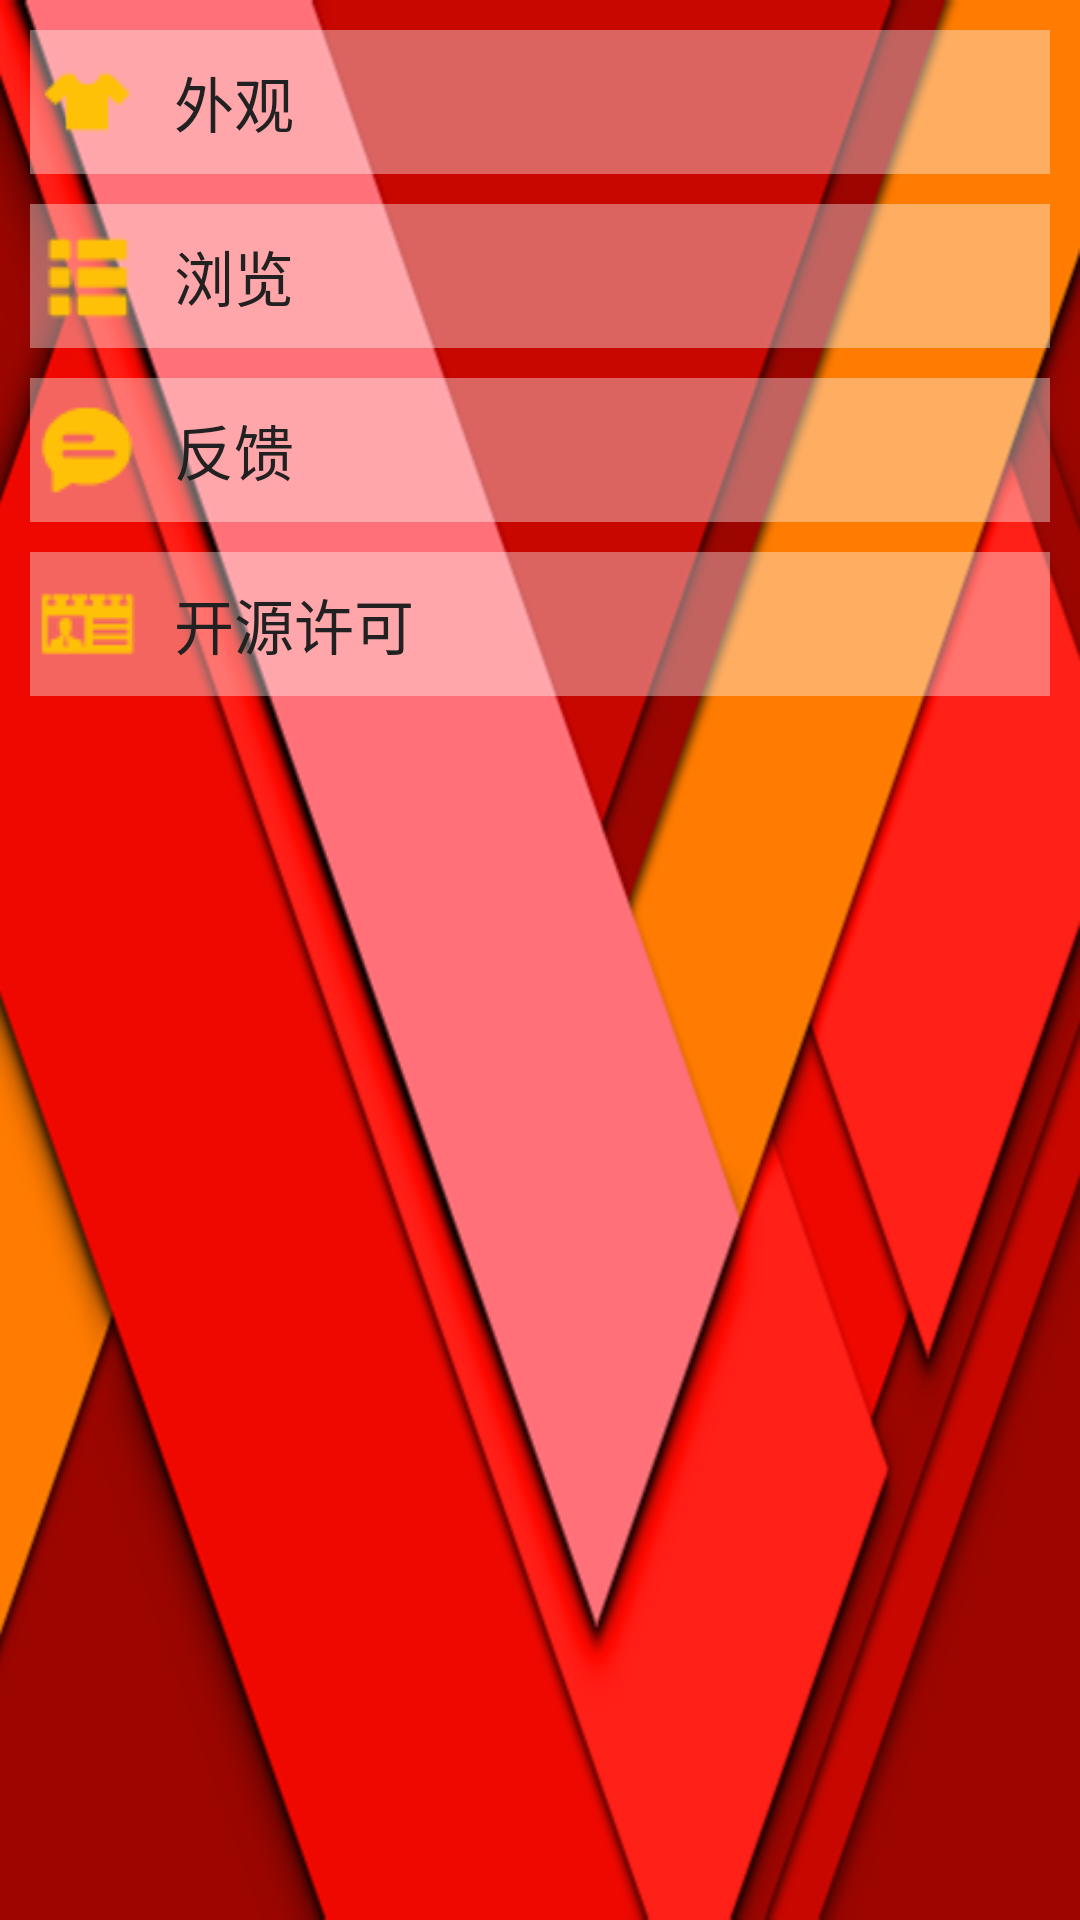

Where to tap for icons on this 1080*1920 app screen, as (x,y):
skin: (80,102)
